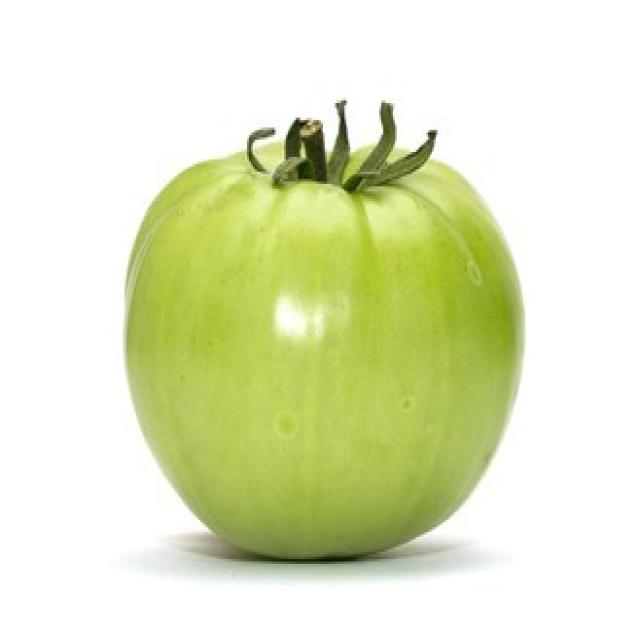yesil: (117, 125, 528, 570)
